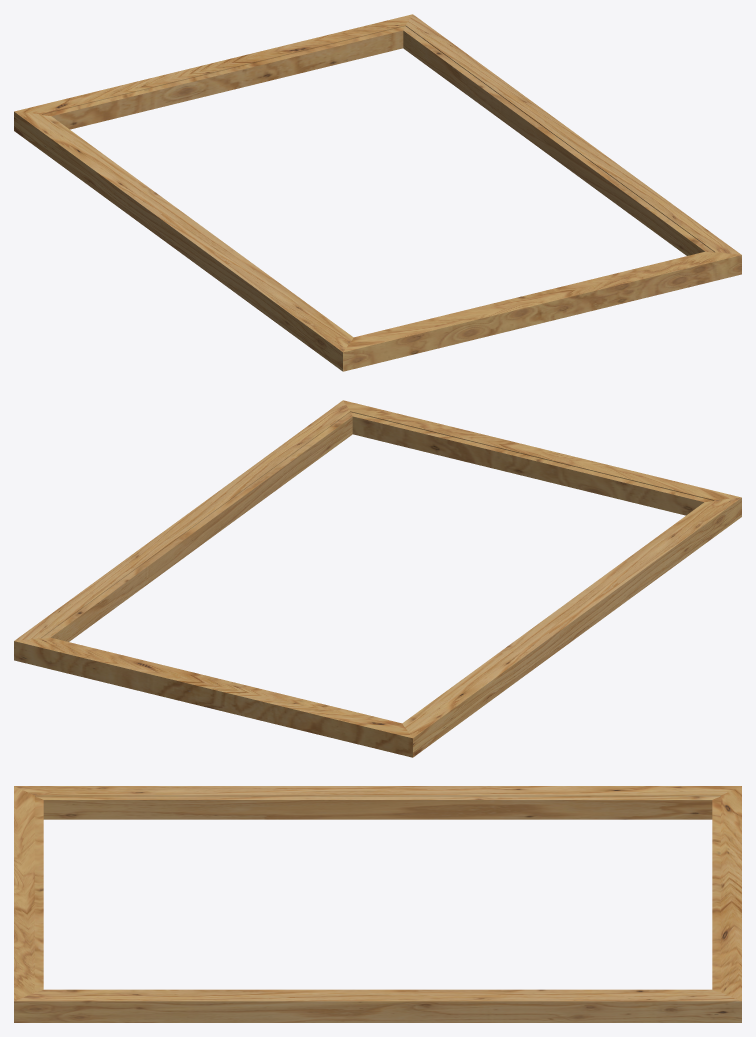
Rendered from Raam100x70.dae.
3 renders of one model, top to bottom at view 1: azimuth 30°, elevation 25°; view 2: azimuth 150°, elevation 25°; view 3: azimuth 270°, elevation 25°, orthographic. The views are drawn at different scales.
Parts seen in each view (by area): view 1: Raam_geo; view 2: Raam_geo; view 3: Raam_geo.
Boxes of the visible parts, x1,y1,x2,y2 form: Raam_geo: [14, 14, 741, 371]; Raam_geo: [14, 400, 741, 757]; Raam_geo: [14, 786, 741, 1022].
Size of the model in its own units: 70 by 3.25 by 100.
Materials: 1 (1 with a texture image).
